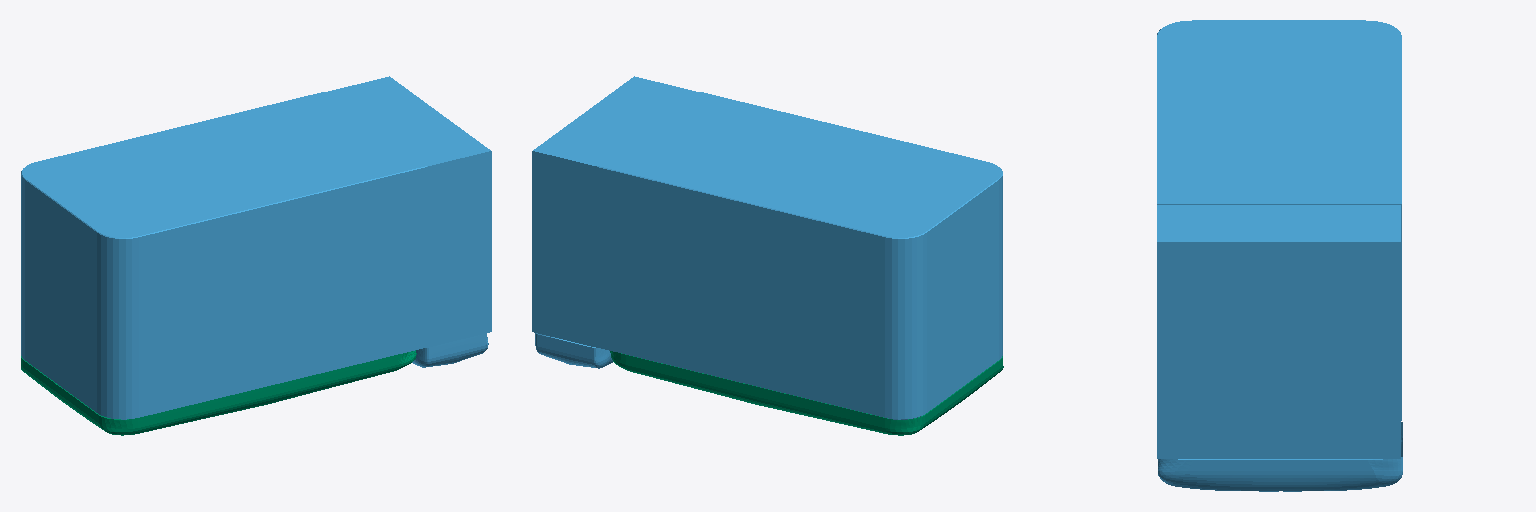
URDF robot description (fridge):
<?xml version="1.0" ?>
<robot name="fridge">
	<mujoco>
        <compiler meshdir="texture_stl" balanceinertia="true" discardvisual="false"/>
    </mujoco>
	<link name="base"/>
	<link name="link_0">
		<visual name="out-frame">
			<origin xyz="0 0 0"/>
			<geometry>
				<mesh filename="texture_stl/frame.stl" scale="0.7 0.7 0.7"/>
			</geometry>
		</visual>
		<collision>
			<origin xyz="0 0 0"/>
			<geometry>
				<mesh filename="texture_stl/frame.stl" scale="0.7 0.7 0.7"/>
			</geometry>
		</collision>
	</link>
	<joint name="joint_0" type="fixed">
		<origin rpy="1.570796326794897 0 -1.570796326794897" xyz="0 0 0"/>
		<child link="link_0"/>
		<parent link="base"/>
	</joint>
	<link name="link_1">
		<visual name="surf-board">
			<origin xyz="0.43067193359250056 -0.41782663873822895 0"/>
			<geometry>
				<mesh filename="texture_stl/board.stl" scale="0.7 0.7 0.7"/>
			</geometry>
		</visual>
		<collision>
			<origin xyz="0.43067193359250056 -0.41782663873822895 0"/>
			<geometry>
				<mesh filename="texture_stl/board.stl" scale="0.7 0.7 0.7"/>
			</geometry>
		</collision>
	</link>
	<joint name="joint_1" type="revolute">
		<origin xyz="-0.43067193359250056 0.41782663873822895 0"/>
		<axis xyz="0 -1 0"/>
		<child link="link_1"/>
		<parent link="link_0"/>
		<limit lower="0" upper="1.5079644737231006"/>
	</joint>
	<link name="link_2">
		<visual name="handle">
			<origin xyz="0 0 0"/>
			<geometry>
				<mesh filename="texture_stl/9960005.stl" scale="1.4 1.4 1.4"/>
			</geometry>
		</visual>
		<collision>
			<origin xyz="0 0 0"/>
			<geometry>
				<mesh filename="texture_stl/9960005.stl" scale="1.4 1.4 1.4"/>
			</geometry>
		</collision>
	</link>
	<joint name="joint_2" type="revolute">
		<origin xyz="0.43067193359250056 -0.41782663873822895 0.047019655831599824"/>
		<child link="link_2"/>
		<parent link="link_1"/>
		<axis xyz="0 0 1"/>
		<limit lower="0" upper="1.5079644737231006"/>
	</joint>
</robot>

--- Render facts (derived) ---
3 views of the same robot in one strip: view 1: azimuth 30°, elevation 25°; view 2: azimuth 150°, elevation 25°; view 3: azimuth 270°, elevation 25° (orthographic).
Robot: fridge — 4 links, 3 joints (2 revolute, 1 fixed); root link base; default pose: all joints at 0.
Links seen in each view (by area): view 1: link_0, link_1; view 2: link_0, link_1; view 3: link_0.
Link boxes in pixels (x1,y1,x2,y2): link_0: [21, 76, 491, 419]; link_1: [21, 350, 416, 435]; link_0: [532, 76, 1002, 419]; link_1: [610, 351, 1003, 435]; link_0: [1157, 20, 1402, 491].
Bounding box of the posed robot: 1.16 × 0.5425 × 0.6245 m (x, y, z).
3 mesh visuals loaded from 3 distinct referenced files (3 binary STL).